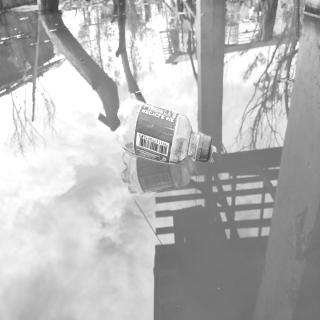bottle: (114, 98, 214, 166)
